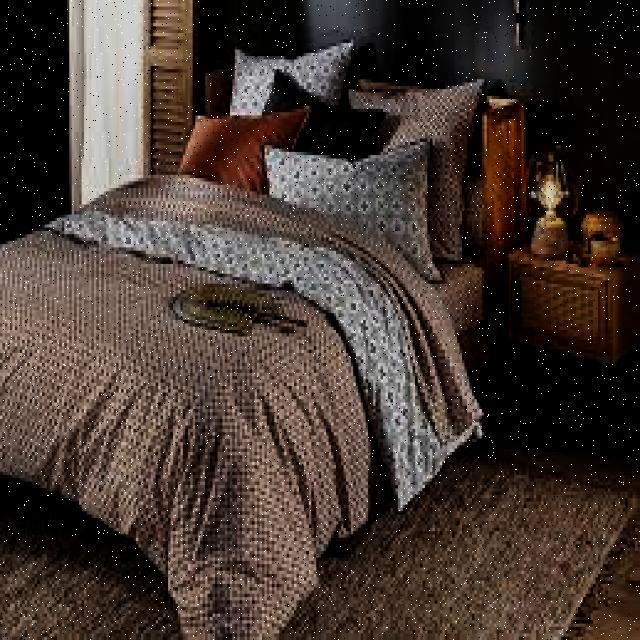bed: (8, 66, 500, 486)
